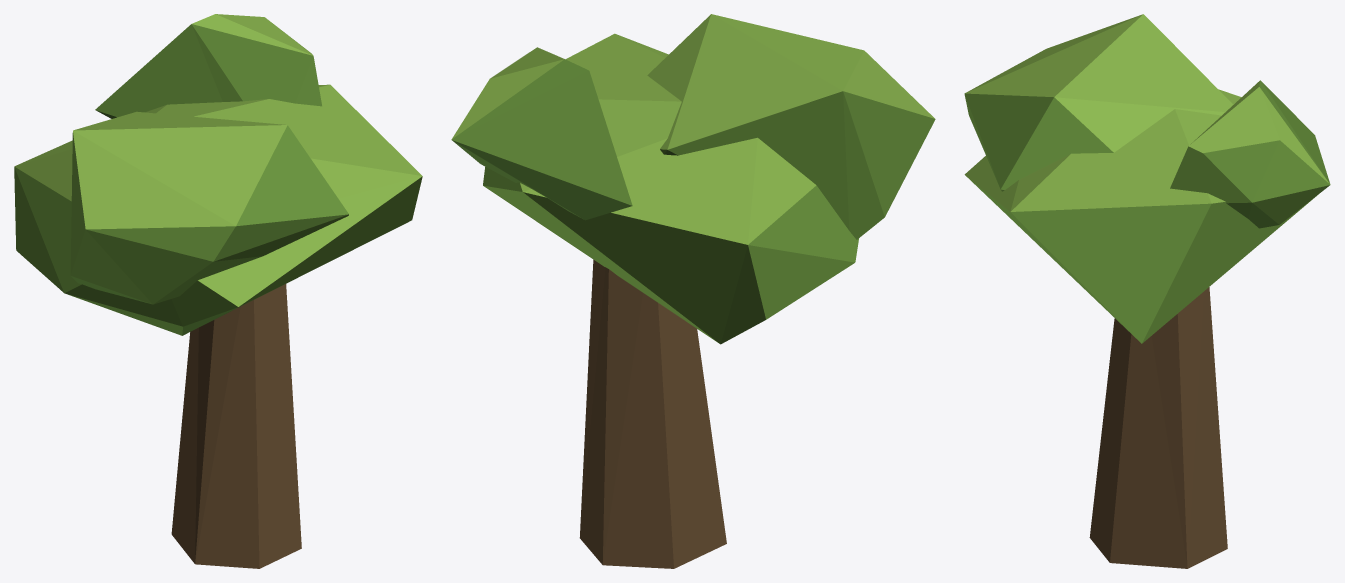
The model's file is Tree_A.fbx.
The picture shows the model from 3 angles, left to right: view 1: azimuth 30°, elevation 25°; view 2: azimuth 150°, elevation 25°; view 3: azimuth 270°, elevation 25°; orthographic projection. The views are drawn at different scales.
Parts seen in each view (by area): view 1: Tree_A; view 2: Tree_A; view 3: Tree_A.
Part boxes in pixels (bbox=[...]): Tree_A: bbox=[14, 14, 422, 568]; Tree_A: bbox=[451, 14, 935, 568]; Tree_A: bbox=[964, 14, 1330, 568].
Bounding box in the file's own units: 4 × 4.9 × 3.45.
